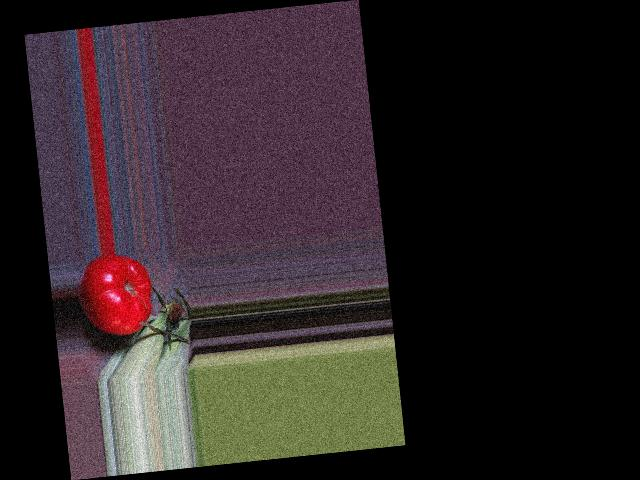tomato: (74, 251, 156, 339)
